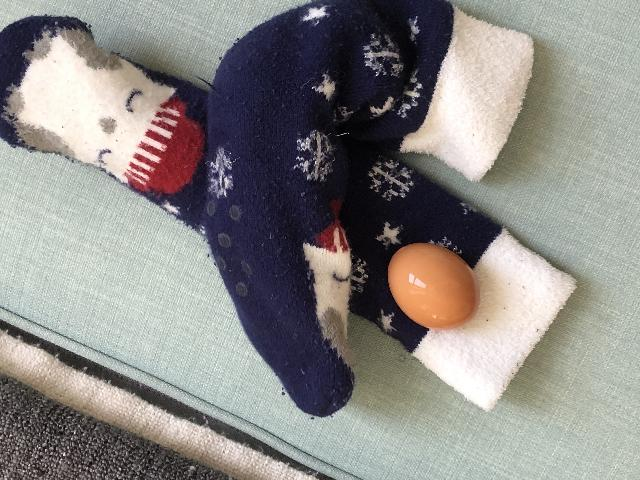Sano: (386, 241, 481, 330)
